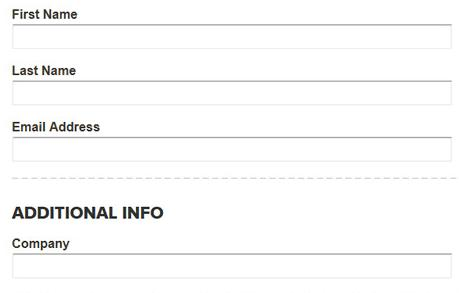field: (5, 21, 453, 54), (9, 79, 454, 106), (5, 252, 453, 278), (8, 135, 454, 160)
